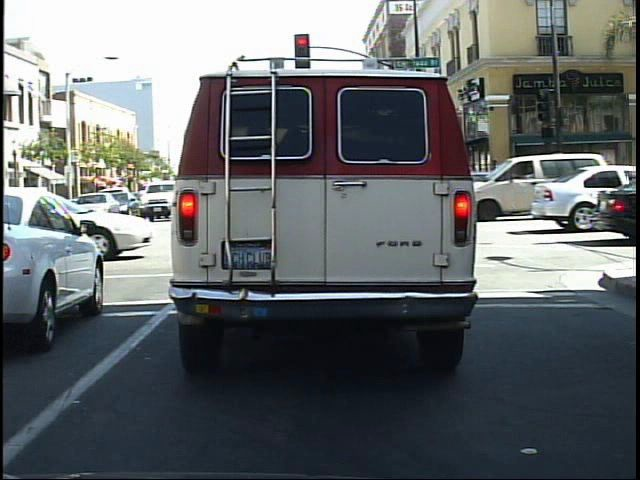person: (536, 154, 563, 216), (516, 157, 541, 215), (486, 156, 505, 214), (496, 164, 515, 212)
